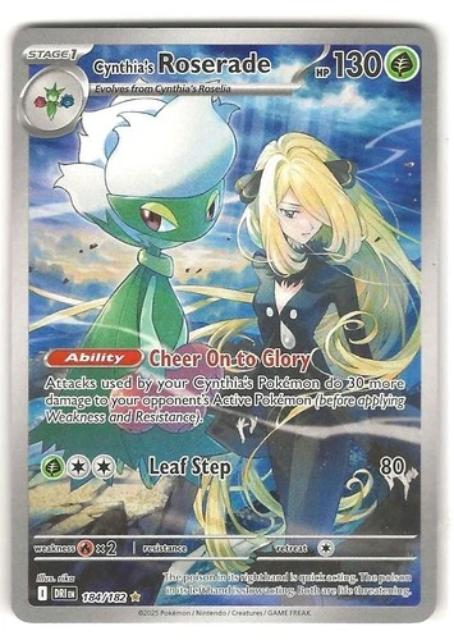Card: (5, 21, 443, 628)
Name: (91, 47, 282, 83)
